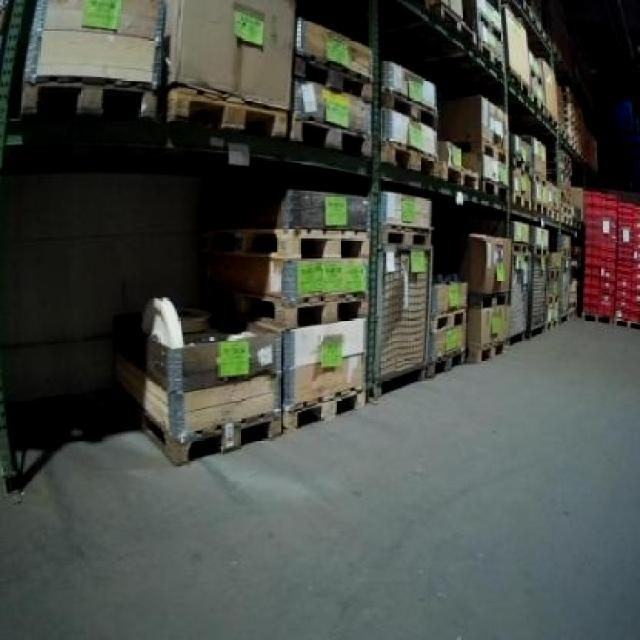floor: (0, 317, 637, 637)
pallets: (112, 295, 280, 462), (582, 189, 637, 320)
